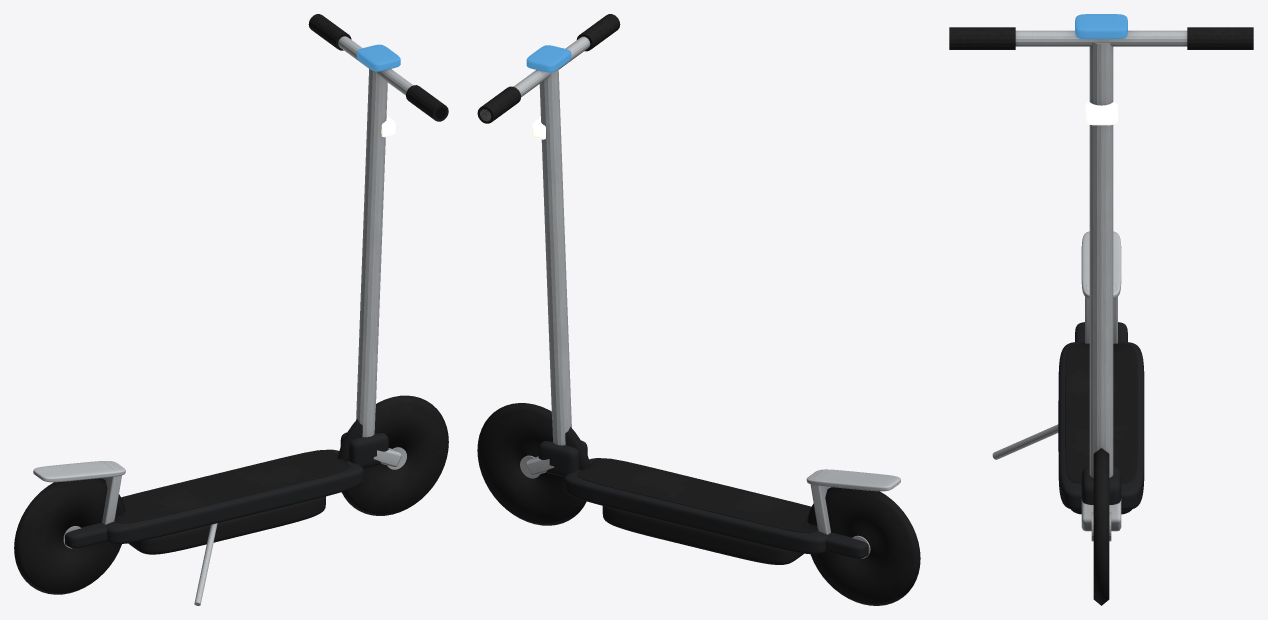
The model's file is electric-black.glb.
3 views of the same model, side by side, from view 1: azimuth 30°, elevation 25°; view 2: azimuth 150°, elevation 25°; view 3: azimuth 270°, elevation 25° (orthographic). The views are drawn at different scales.
Visible parts, largest first — view 1: pu_wheel, aluminium, paint_primary, griptape, battery_black, grip_rubber, screen_on; view 2: pu_wheel, aluminium, paint_primary, griptape, battery_black, grip_rubber, screen_on; view 3: aluminium, griptape, paint_primary, grip_rubber, pu_wheel, screen_on, lamp_head.
Part boxes in pixels (bbox=[...]): pu_wheel: bbox=[14, 395, 448, 594]; aluminium: bbox=[33, 36, 413, 605]; paint_primary: bbox=[65, 432, 388, 548]; griptape: bbox=[114, 450, 350, 523]; battery_black: bbox=[128, 496, 325, 554]; grip_rubber: bbox=[308, 14, 448, 121]; screen_on: bbox=[356, 44, 400, 71]; pu_wheel: bbox=[477, 403, 920, 605]; aluminium: bbox=[480, 36, 900, 558]; paint_primary: bbox=[538, 440, 868, 558]; griptape: bbox=[577, 458, 818, 533]; battery_black: bbox=[602, 506, 803, 564]; grip_rubber: bbox=[477, 14, 620, 123]; screen_on: bbox=[526, 45, 571, 72]; aluminium: bbox=[992, 30, 1187, 541]; griptape: bbox=[1065, 343, 1137, 483]; paint_primary: bbox=[1058, 322, 1144, 510]; grip_rubber: bbox=[949, 27, 1253, 49]; pu_wheel: bbox=[1093, 448, 1109, 605]; screen_on: bbox=[1075, 14, 1127, 39]; lamp_head: bbox=[1085, 102, 1117, 125].
Size of the model in its own units: 0.93 by 0.955 by 0.46.
8 materials, 4 textured.
